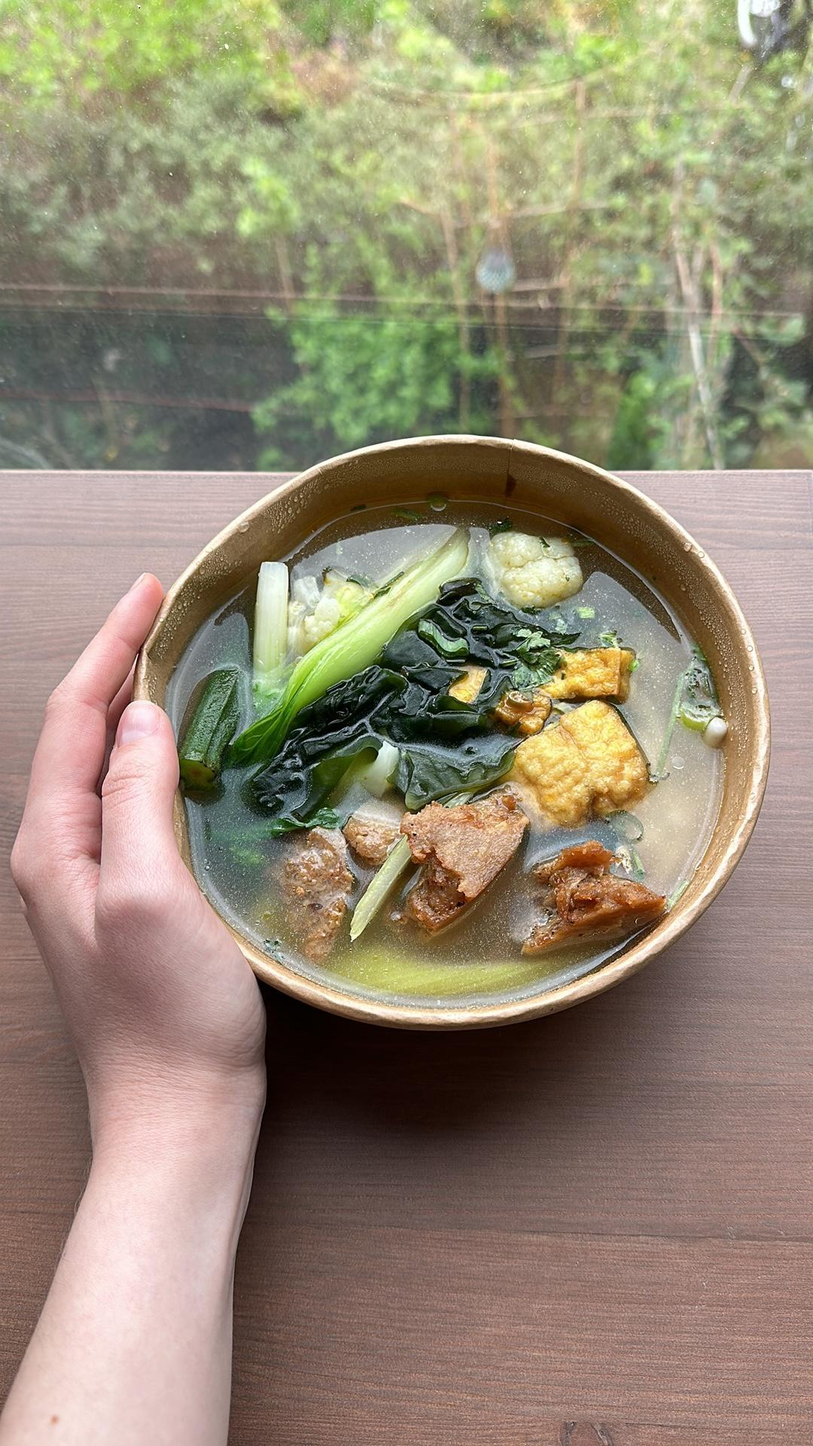cauliflower: (485, 526, 584, 607)
vegetable marrow: (183, 668, 254, 779)
